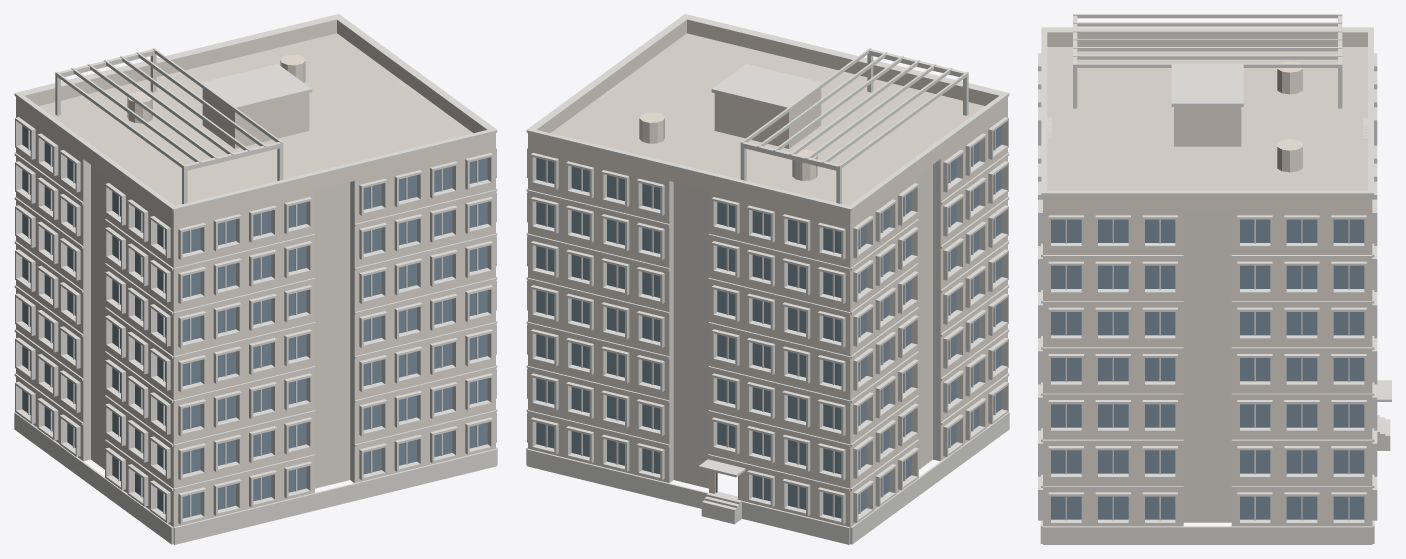
Rendered from Hostel_Chain_2.fbx.
The picture shows the model from 3 angles, left to right: view 1: azimuth 30°, elevation 25°; view 2: azimuth 150°, elevation 25°; view 3: azimuth 270°, elevation 25°; orthographic projection. The views are drawn at different scales.
Parts seen in each view (by area): view 1: Hostel_Chain_2; view 2: Hostel_Chain_2; view 3: Hostel_Chain_2.
Boxes of the visible parts, box(x1,y1,x2,y2) form: Hostel_Chain_2: box(14, 14, 497, 544); Hostel_Chain_2: box(526, 14, 1009, 544); Hostel_Chain_2: box(1038, 14, 1391, 544).
Bounding box in the file's own units: 26.64 × 27.85 × 23.62.
